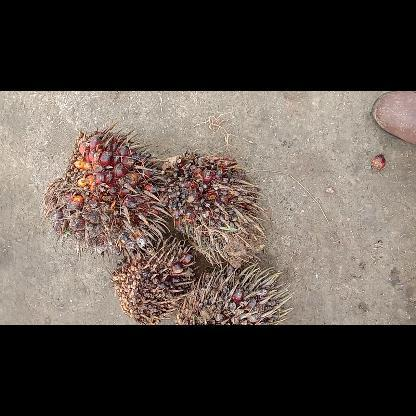TBS abnormal: (164, 154, 262, 262), (110, 233, 196, 324), (176, 266, 288, 323)
TBS masak: (41, 130, 165, 248)
